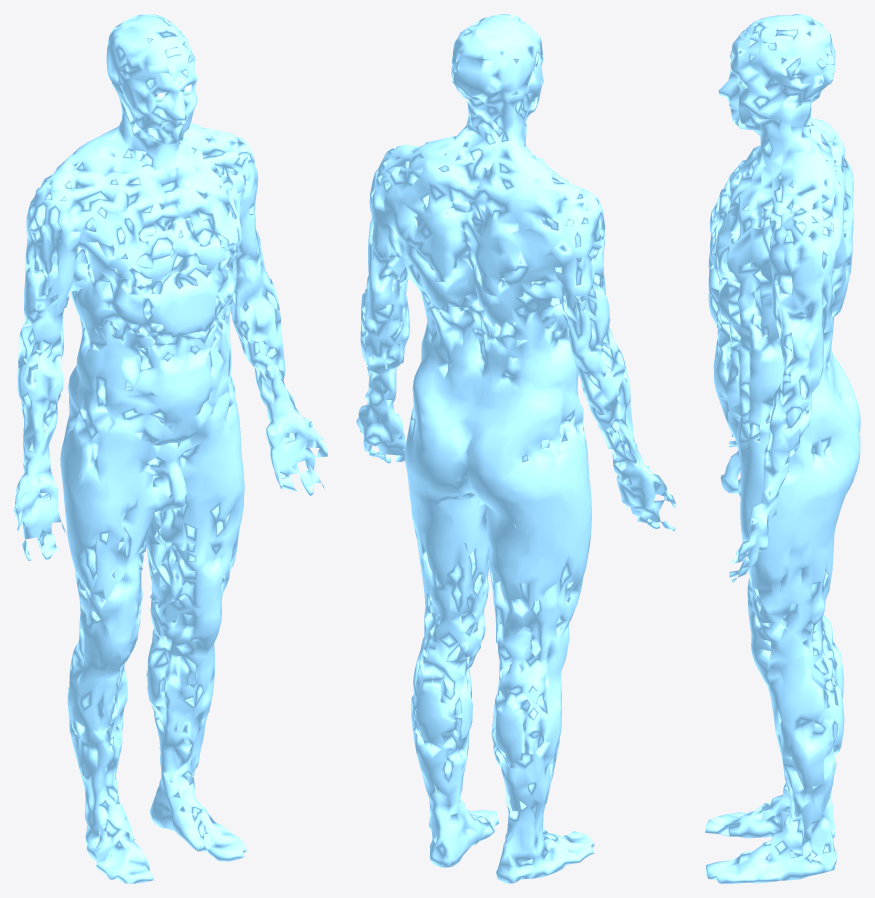
File: body.glb
3 renders of one model, left to right at view 1: azimuth 30°, elevation 25°; view 2: azimuth 150°, elevation 25°; view 3: azimuth 270°, elevation 25°, orthographic.
Parts seen in each view (by area): view 1: skin; view 2: skin; view 3: skin.
Part boxes in pixels (bbox=[...]): skin: bbox=[14, 14, 327, 883]; skin: bbox=[356, 14, 676, 883]; skin: bbox=[705, 14, 860, 883].
Size of the model in its own units: 647 by 1642 by 278.
